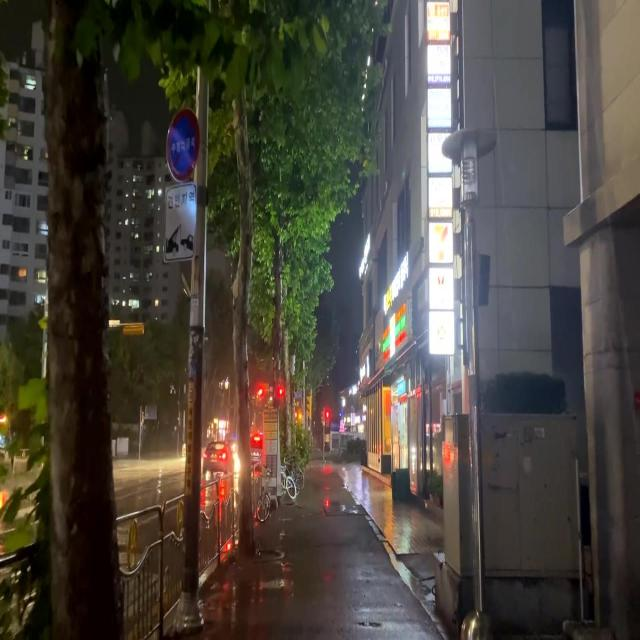Car: (201, 435, 234, 471)
